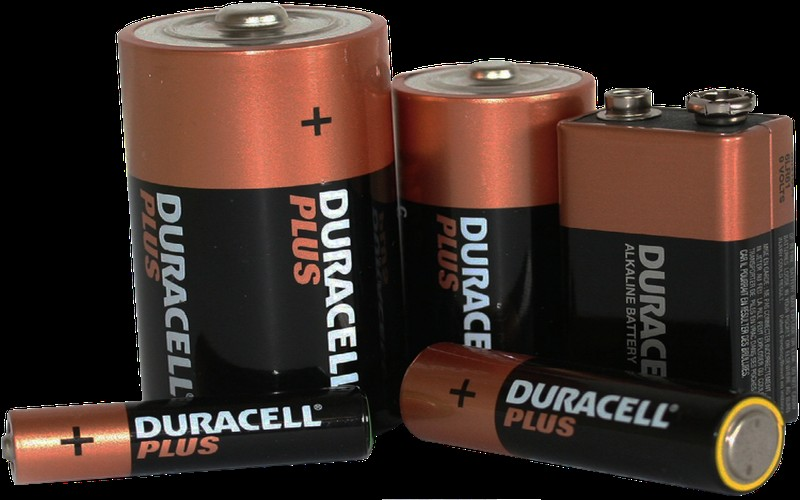Battery: (80, 0, 800, 460), (392, 324, 800, 500), (3, 376, 377, 489)
